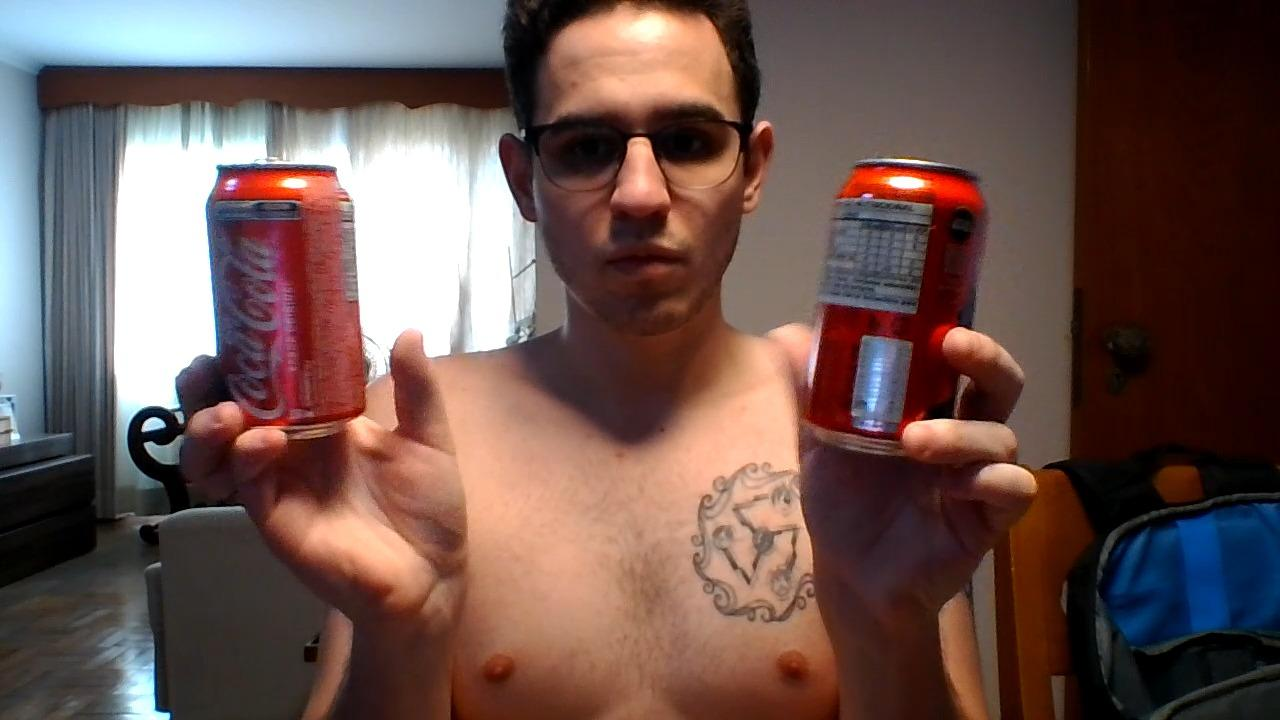coke: (809, 165, 987, 450), (209, 176, 362, 430)
